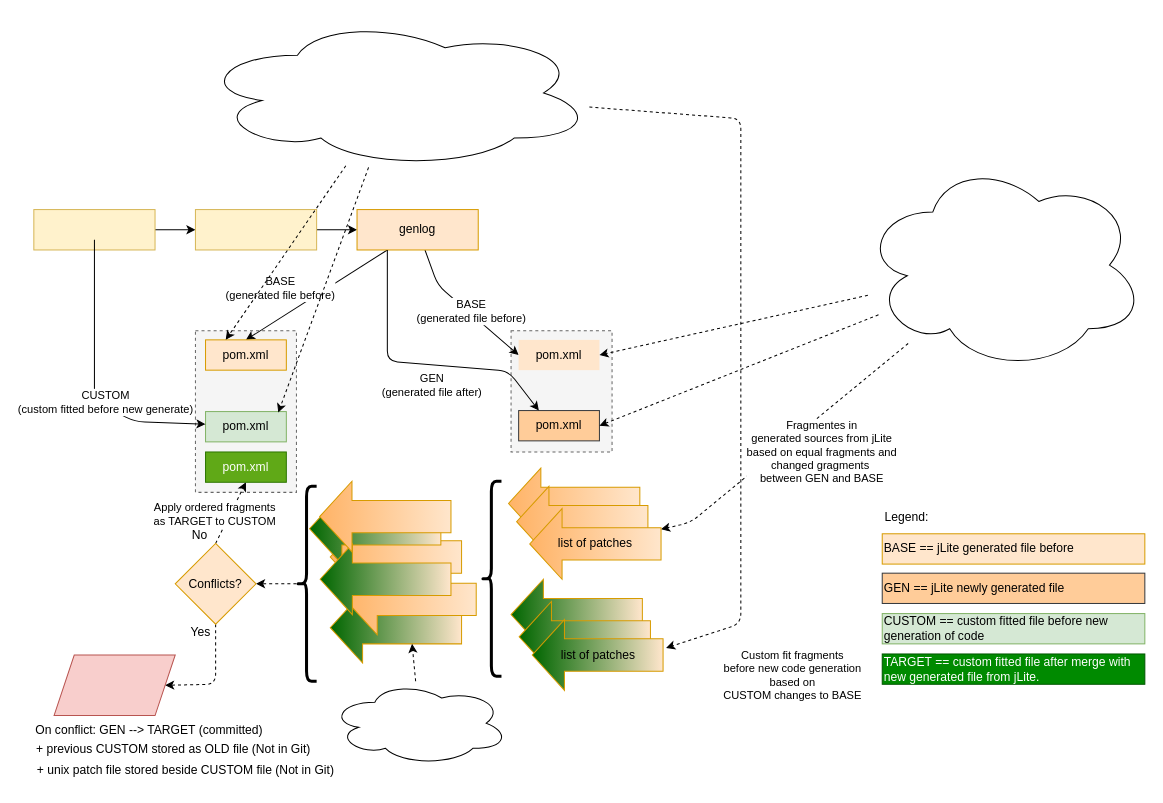
This 1163x803 diagram has some shape labels left out. Each missing label, with the centre of its shape:
.jhipster: (x=255, y=229)
Commmunicate conflict: (x=114, y=685)
CUSTOM's changes to BASE are made as small patches: (x=395, y=92)
GEN's equality and updates to BASE are made as small patches: (x=1003, y=264)
Ordered fragments: (x=419, y=722)
Project (root): (x=94, y=229)
